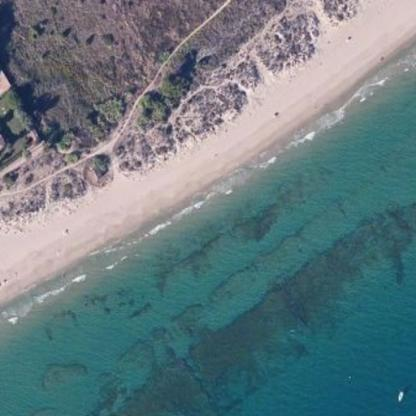ship: (392, 384, 407, 407)
